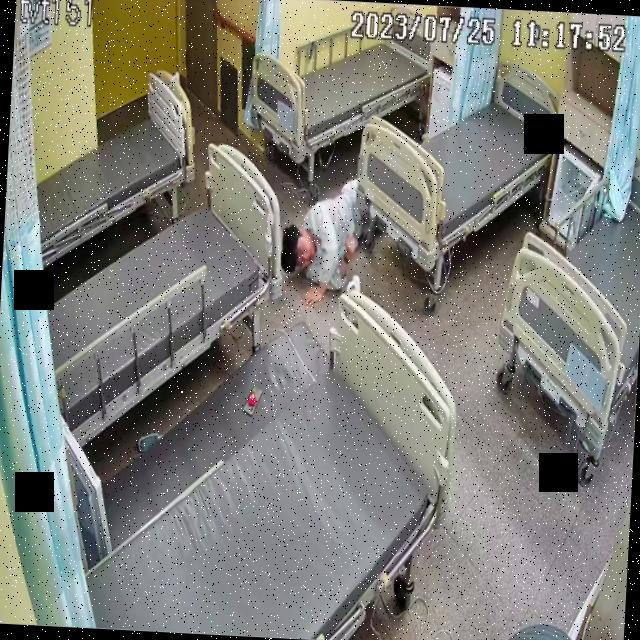bed: (82, 286, 454, 640), (36, 140, 284, 445), (498, 151, 640, 451), (352, 63, 558, 255), (31, 64, 200, 269), (252, 14, 432, 168)
fall: (286, 176, 372, 306)
patient: (285, 169, 372, 303)
